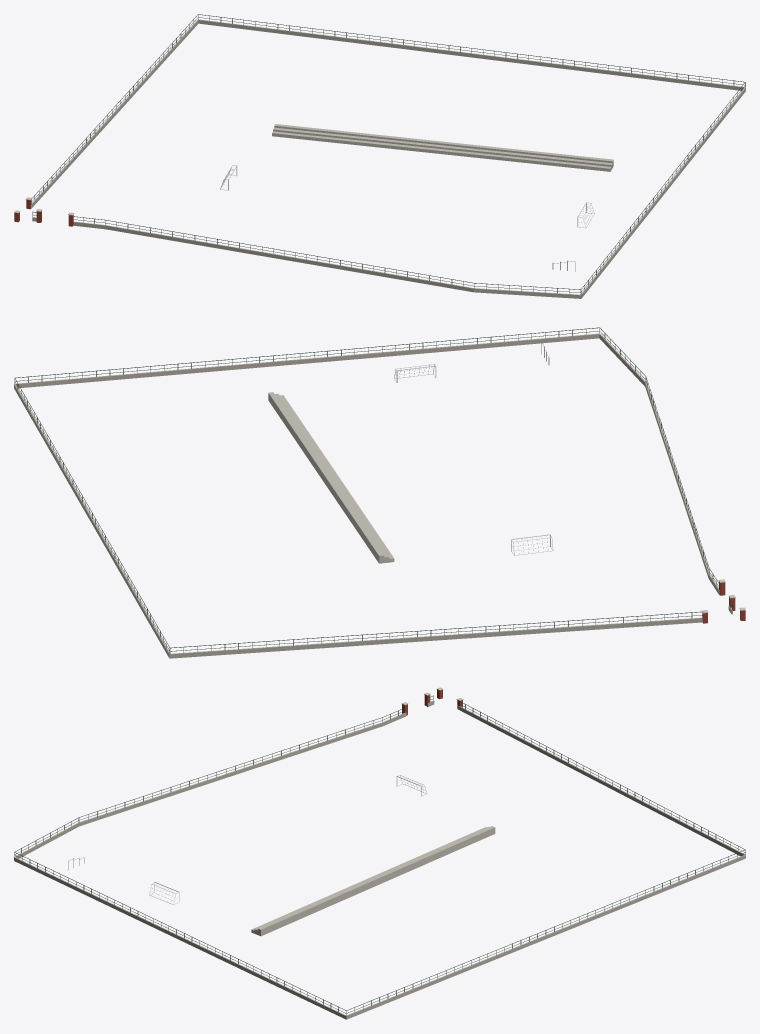
3 views of the same model, one above another, from view 1: azimuth 30°, elevation 25°; view 2: azimuth 150°, elevation 25°; view 3: azimuth 270°, elevation 25° (orthographic). The views are drawn at different scales.
Parts seen in each view (by area): view 1: site-wall-concrete, site-stand-concrete, site-fence; view 2: site-wall-concrete, site-fence, site-stand-concrete; view 3: site-wall-concrete, site-fence, site-stand-concrete.
Part boxes in pixels (x1,y1,x2,y2): site-wall-concrete: [30, 19, 745, 298]; site-stand-concrete: [272, 124, 613, 171]; site-fence: [31, 14, 745, 294]; site-wall-concrete: [14, 333, 732, 658]; site-fence: [14, 327, 732, 653]; site-stand-concrete: [268, 392, 394, 563]; site-wall-concrete: [14, 700, 745, 1019]; site-fence: [14, 695, 745, 1015]; site-stand-concrete: [251, 826, 495, 936].
Size of the model in its own units: 165 by 2.85 by 158.
